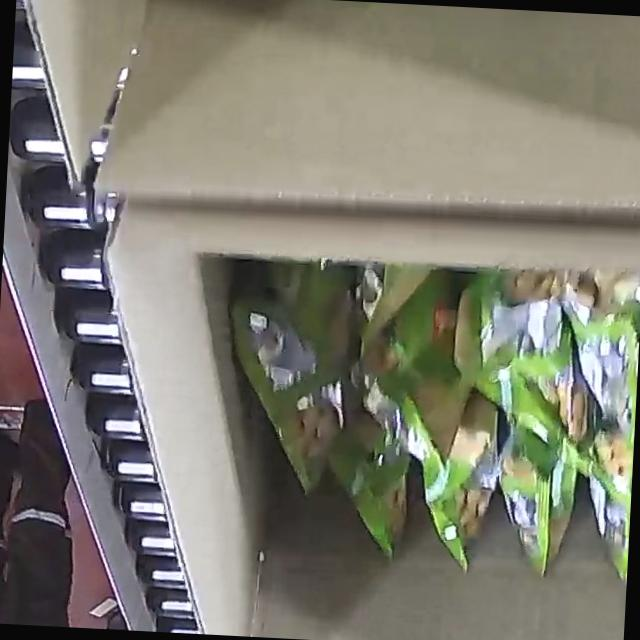yogurt: (212, 250, 640, 588)
